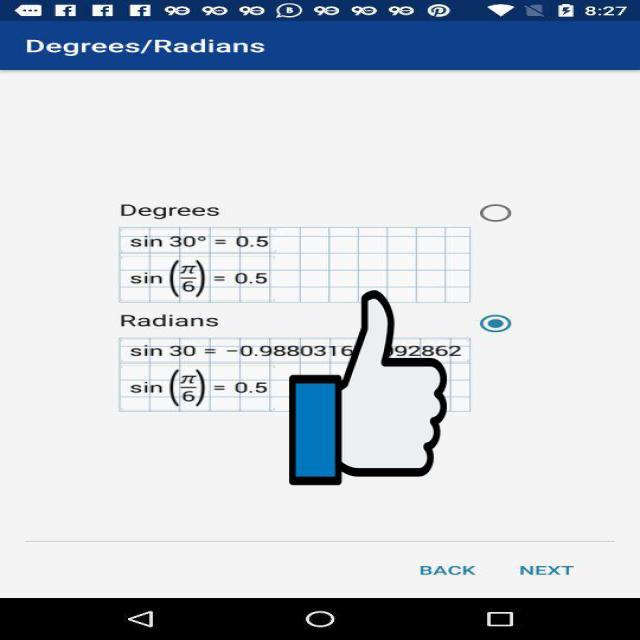privacy zuckering: (289, 286, 447, 489)
